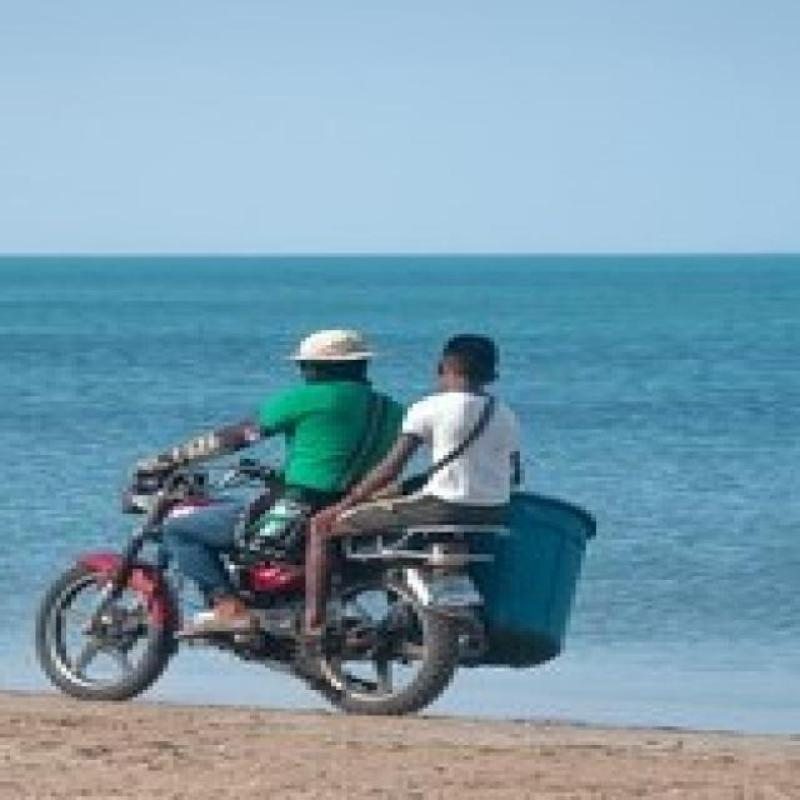nohelmet: (278, 302, 388, 414), (415, 322, 506, 392)
